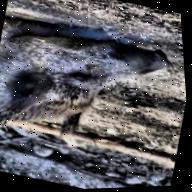boar: (0, 0, 185, 178)
